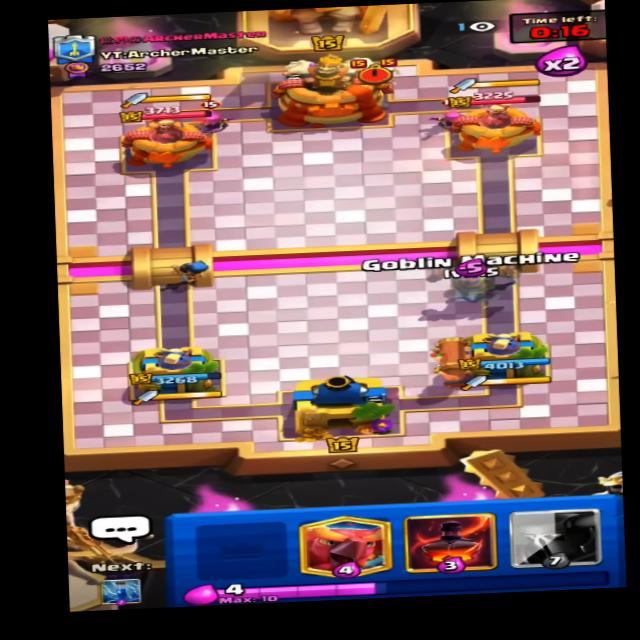evo-archers: (192, 101, 240, 137), (433, 93, 475, 134)
